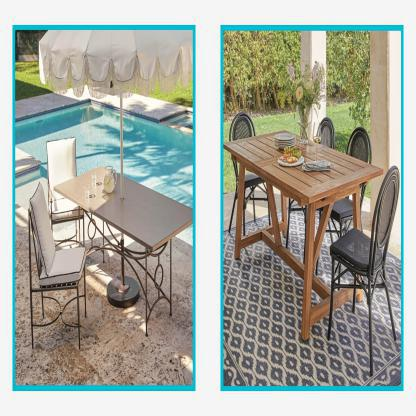table: (221, 127, 386, 344), (51, 160, 194, 341)
